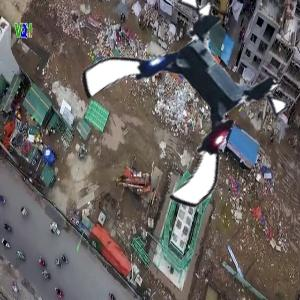drone: (99, 12, 281, 194)
